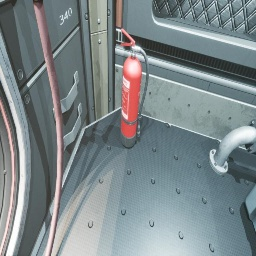FireExtinguisher ]: (120, 28, 149, 148)
